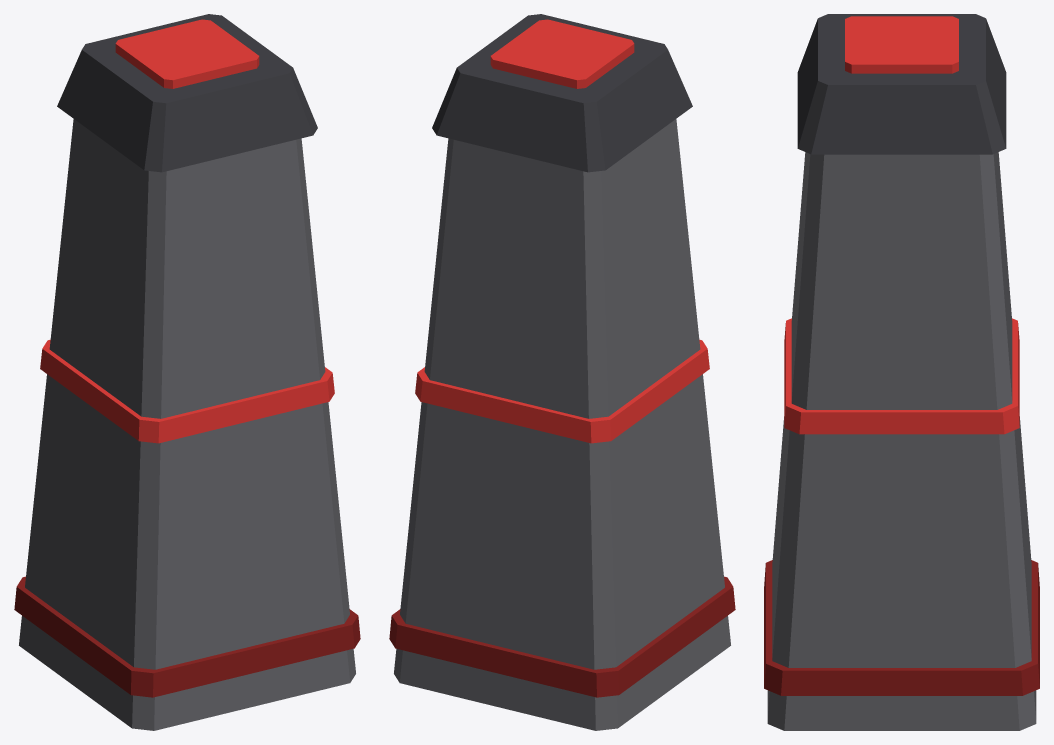
Rendered from void_monolith_pillar_e.obj.
3 renders of one model, left to right at view 1: azimuth 30°, elevation 25°; view 2: azimuth 150°, elevation 25°; view 3: azimuth 270°, elevation 25°, orthographic. The views are drawn at different scales.
Visible parts, largest first — view 1: void_monolith_pillar_e_0, void_monolith_pillar_e_1, void_monolith_pillar_e_3, void_monolith_pillar_e_4, void_monolith_pillar_e_2; view 2: void_monolith_pillar_e_0, void_monolith_pillar_e_1, void_monolith_pillar_e_3, void_monolith_pillar_e_4, void_monolith_pillar_e_2; view 3: void_monolith_pillar_e_0, void_monolith_pillar_e_1, void_monolith_pillar_e_3, void_monolith_pillar_e_4, void_monolith_pillar_e_2.
Boxes of the visible parts, x1=… form: void_monolith_pillar_e_0: x1=19, y1=119, x2=355, y2=730; void_monolith_pillar_e_1: x1=57, y1=14, x2=317, y2=172; void_monolith_pillar_e_3: x1=14, y1=576, x2=360, y2=697; void_monolith_pillar_e_4: x1=40, y1=339, x2=334, y2=443; void_monolith_pillar_e_2: x1=115, y1=19, x2=259, y2=88; void_monolith_pillar_e_0: x1=394, y1=119, x2=730, y2=730; void_monolith_pillar_e_1: x1=432, y1=14, x2=692, y2=172; void_monolith_pillar_e_3: x1=389, y1=576, x2=735, y2=697; void_monolith_pillar_e_4: x1=415, y1=339, x2=709, y2=443; void_monolith_pillar_e_2: x1=490, y1=19, x2=634, y2=88; void_monolith_pillar_e_0: x1=767, y1=152, x2=1036, y2=730; void_monolith_pillar_e_1: x1=797, y1=14, x2=1006, y2=154; void_monolith_pillar_e_3: x1=764, y1=560, x2=1039, y2=695; void_monolith_pillar_e_4: x1=784, y1=318, x2=1019, y2=434; void_monolith_pillar_e_2: x1=845, y1=16, x2=958, y2=73.
Size of the model in its own units: 0.82 by 2.08 by 0.82.
